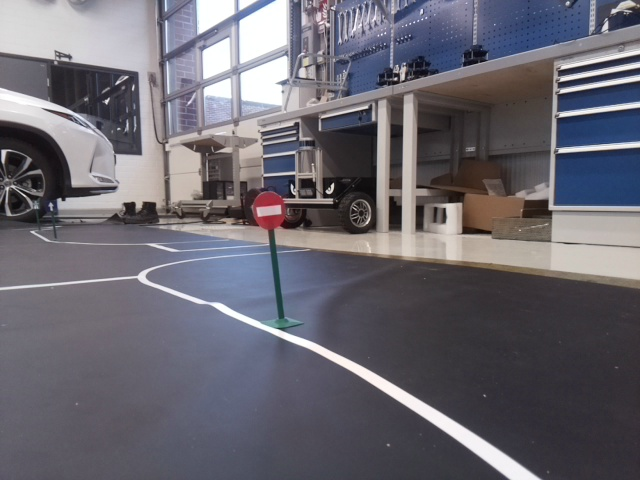NoEntry: (250, 187, 286, 228)
